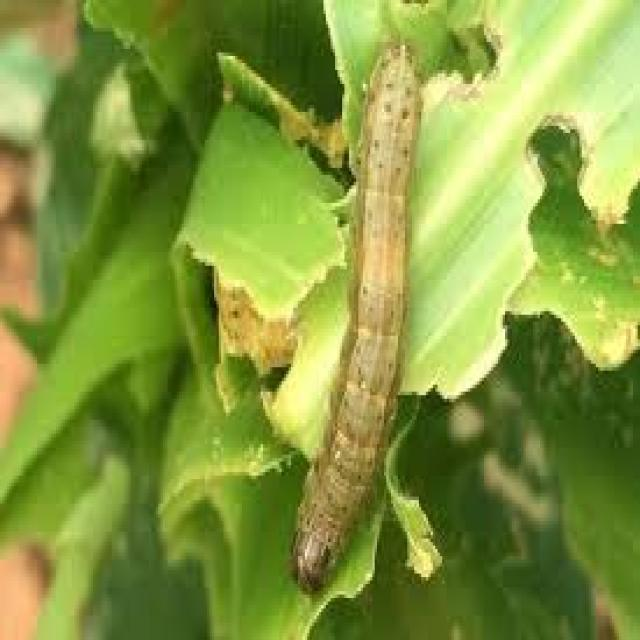Army Worm: (273, 32, 427, 599)
